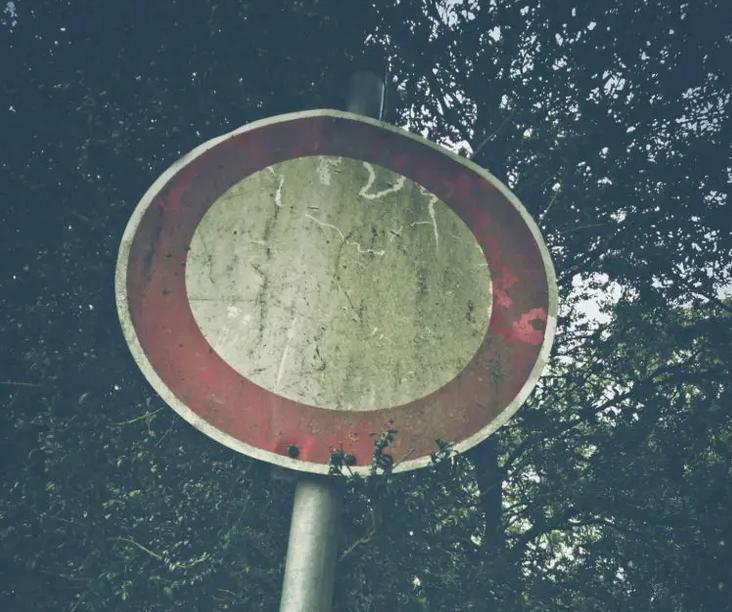obstructed_road_sign: (116, 110, 556, 472)
